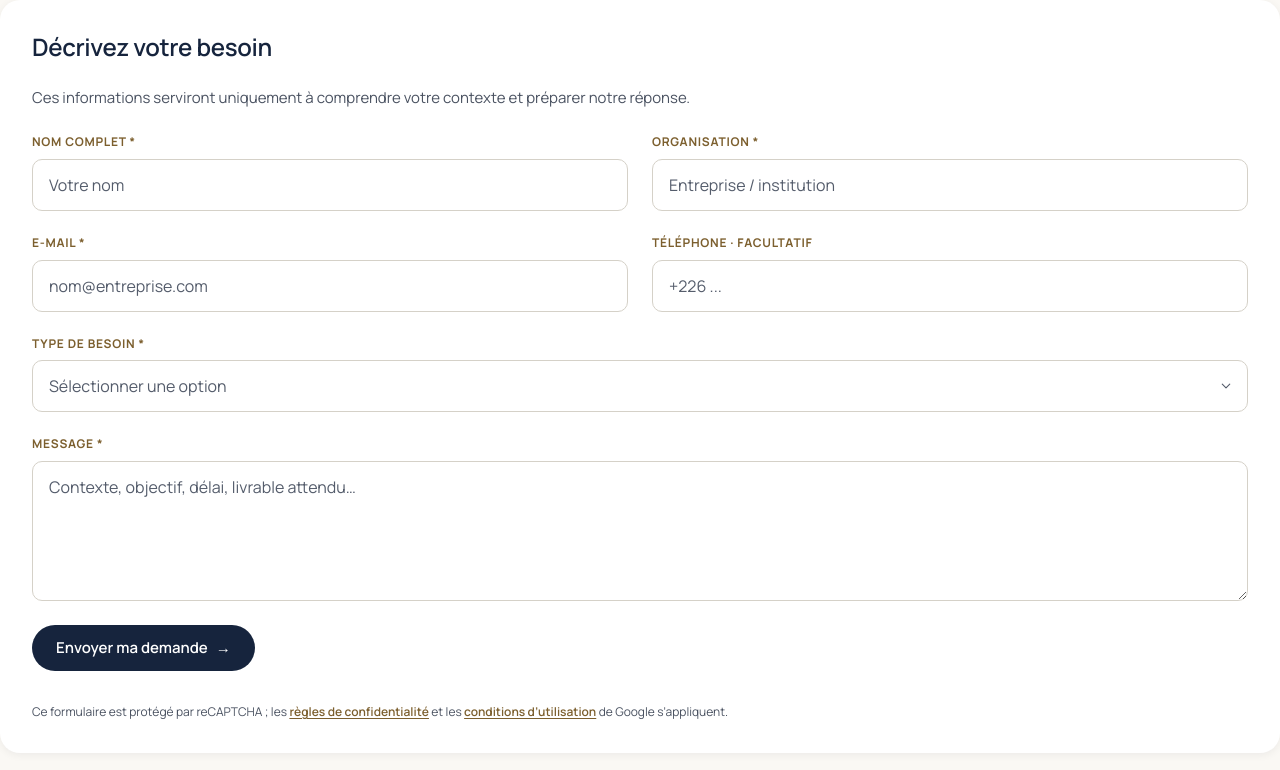
ContactForm — envoi EmailJS protégé par reCAPTCHA › confirme l’envoi puis remet le formulaire à zéro
This screenshot has width=1280, height=770.
Type "Awa Ouédraogo" into the field labelled "Nom complet *". click: point(330, 185)
box: x1=32 y1=159 x2=628 y2=211
Type "Sahel Capital Partners" into the field labelled "Organisation *". click: point(950, 185)
box: x1=652 y1=159 x2=1248 y2=211
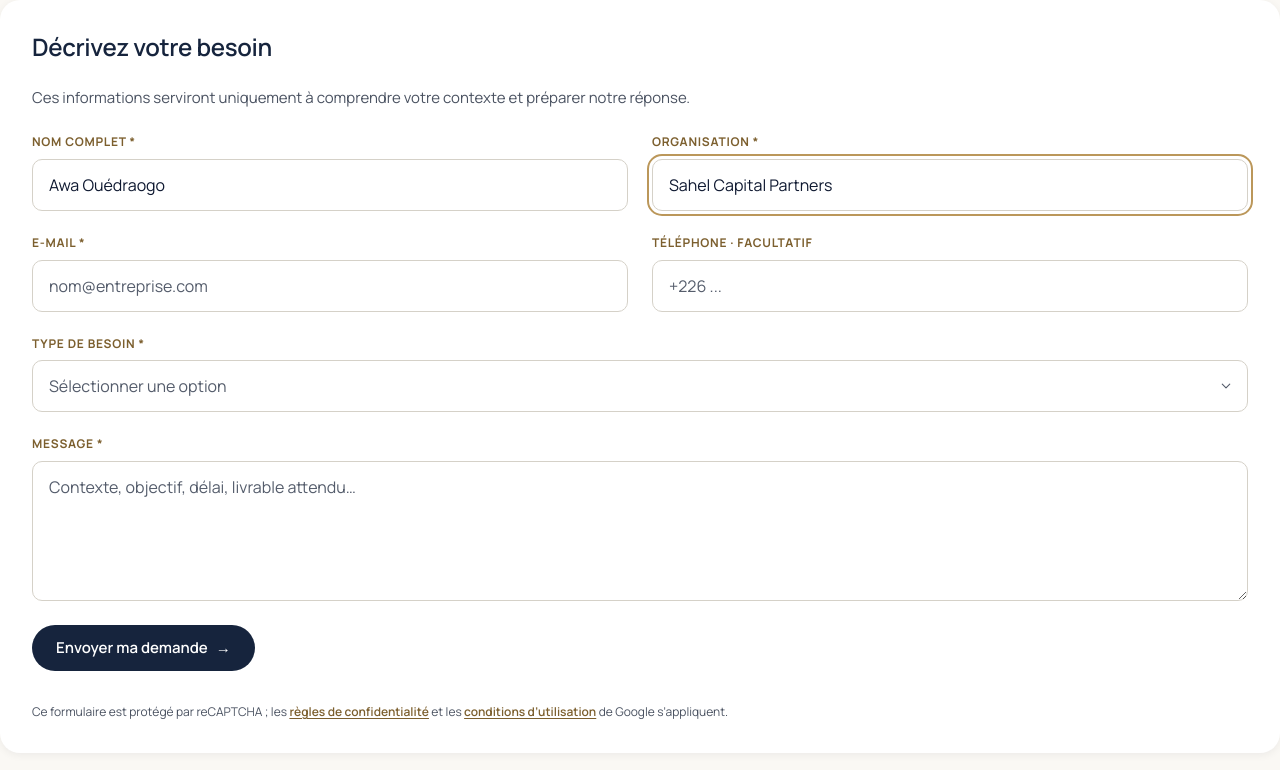
Type "awa.ouedraogo@example.com" into the field labelled "E-mail *". click: point(330, 286)
box: x1=32 y1=260 x2=628 y2=312
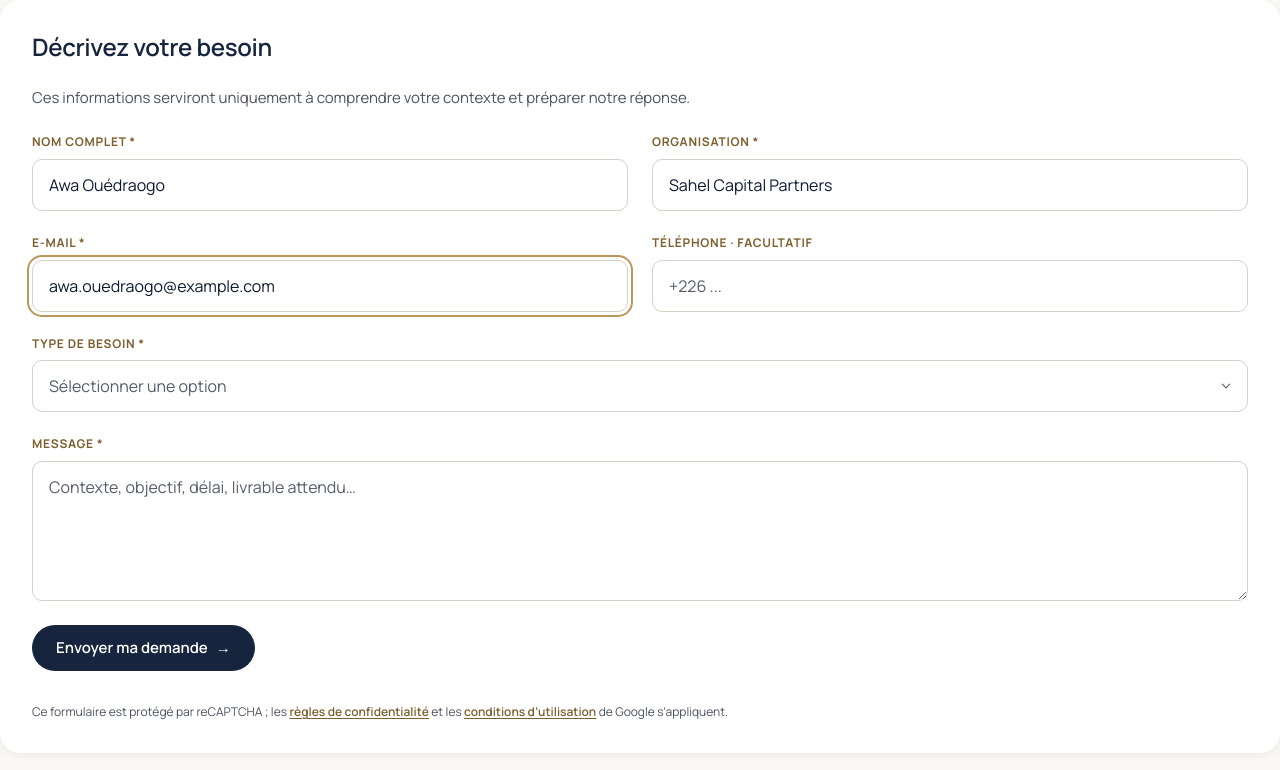
Click the dropdown. click: point(138, 386)
box: x1=32 y1=360 x2=1248 y2=412
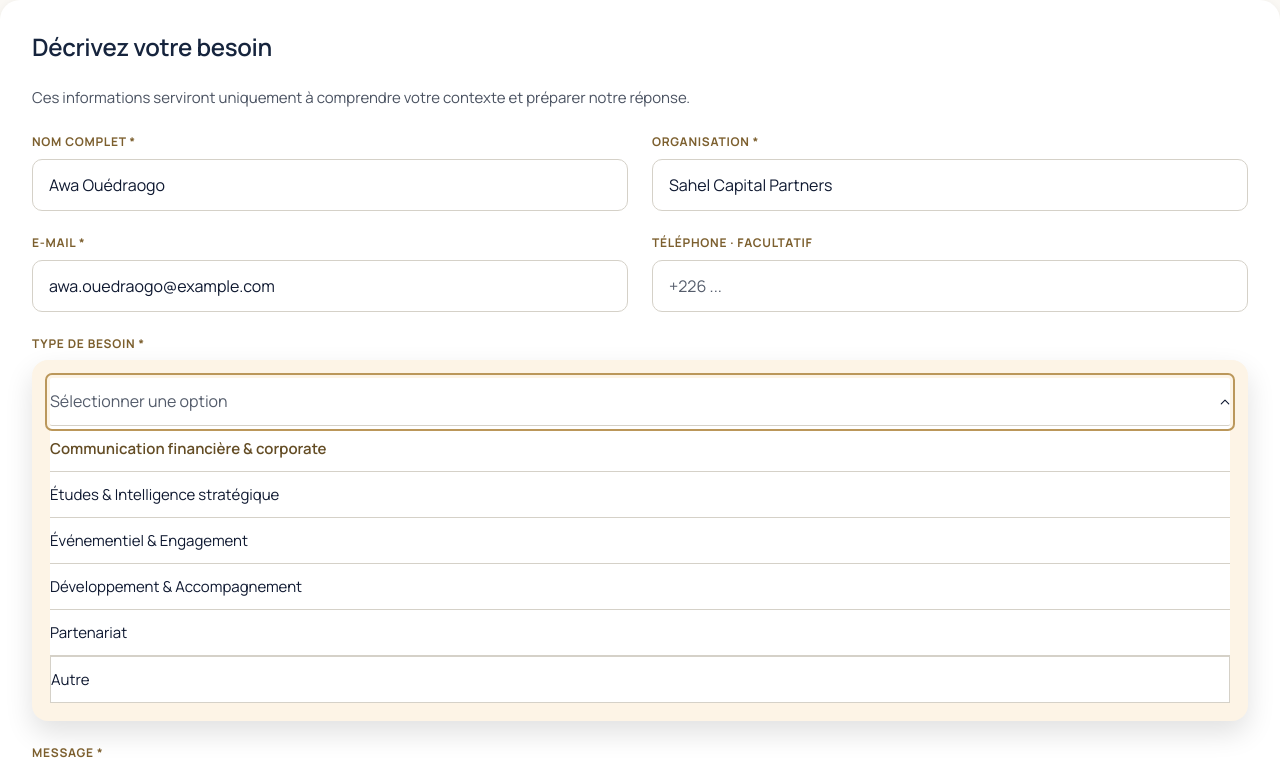
Click the option "Communication financière & corporate". click: point(188, 448)
box: x1=50 y1=426 x2=1230 y2=472
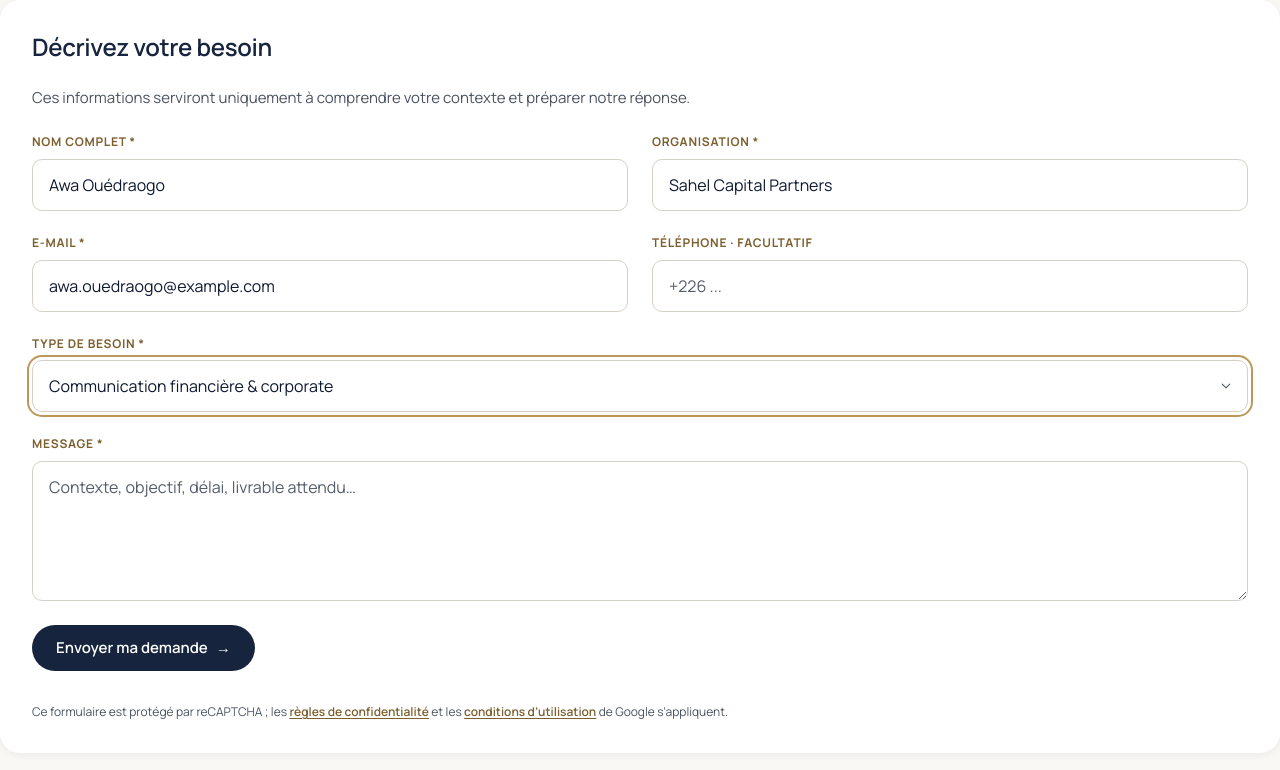
Type "Nous préparons une levée de fonds et cherchons un accompagnement éditorial." into the text box labelled "Message *". click: point(640, 531)
box: x1=32 y1=461 x2=1248 y2=601
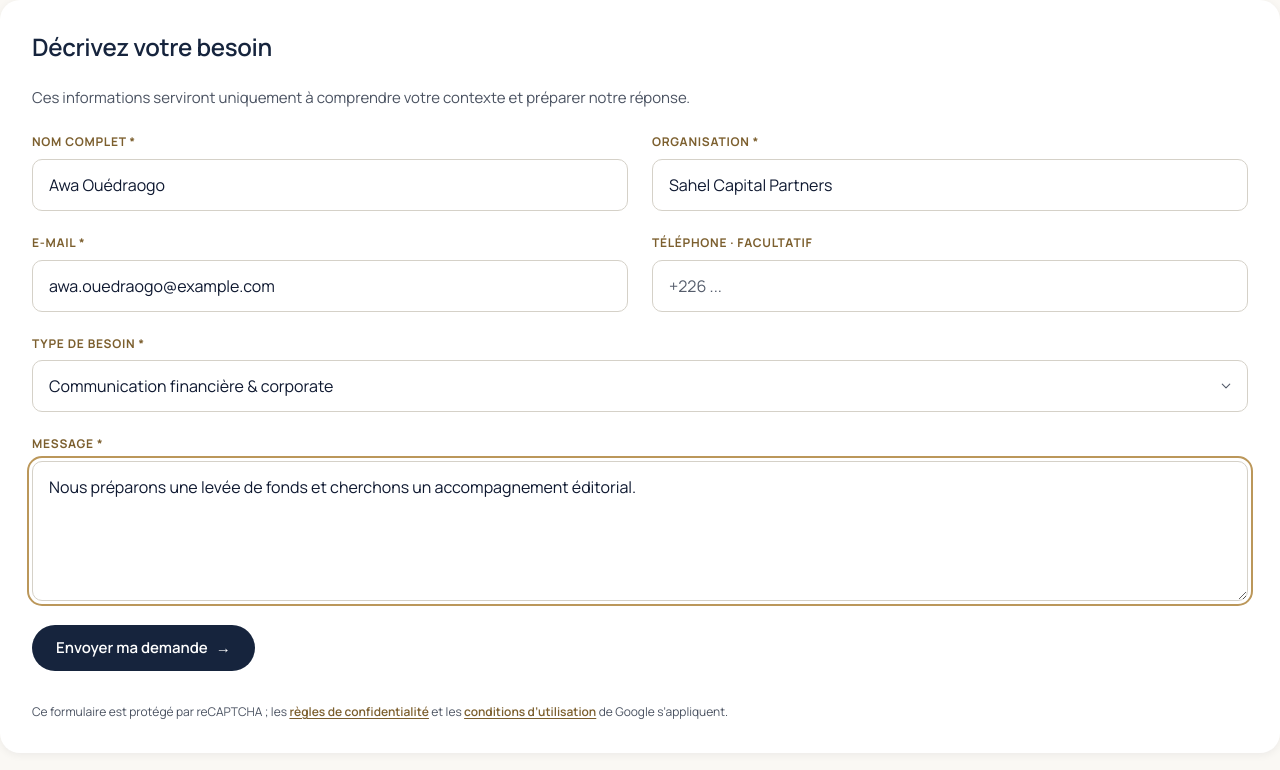
Click the button "Envoyer ma demande →". click: point(143, 648)
box: x1=32 y1=625 x2=255 y2=671
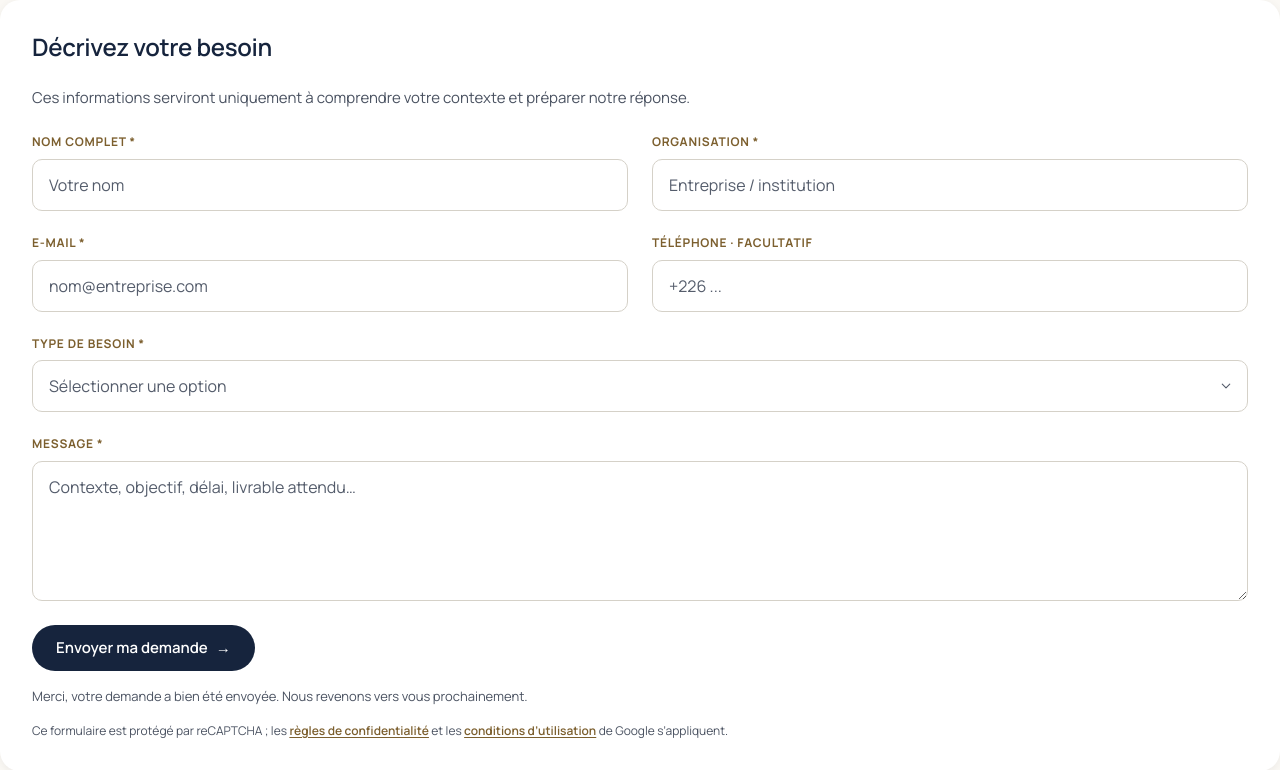
Expected: the message reads "Merci, votre demande a bien été envoyée. Nous revenons vers vous prochainement.", x1=32 y1=687 x2=528 y2=705
Expected: the field labelled "Nom complet *" is empty, x1=32 y1=159 x2=628 y2=211
